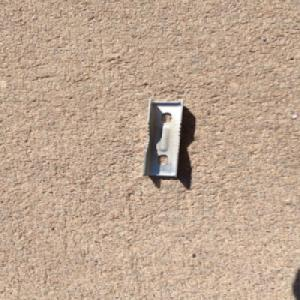ClampPart: (140, 97, 187, 179)
